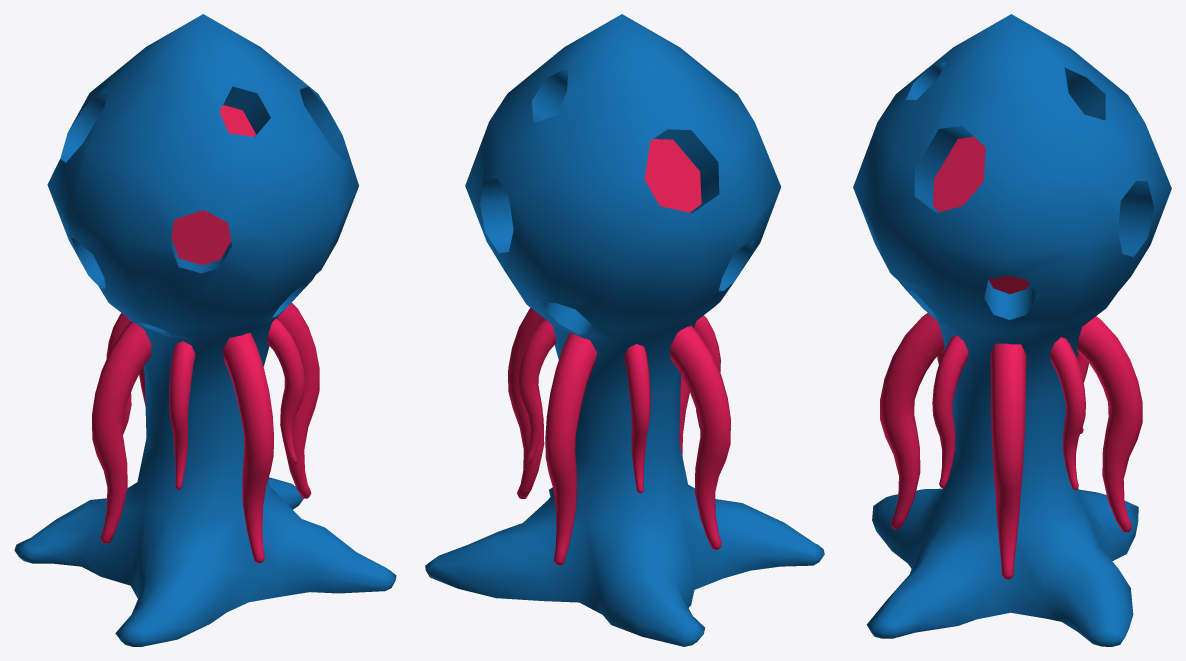
Rendered from Plant_6_blue.fbx.
3 renders of one model, left to right at view 1: azimuth 30°, elevation 25°; view 2: azimuth 150°, elevation 25°; view 3: azimuth 270°, elevation 25°, orthographic.
Parts seen in each view (by area): view 1: Plant_6_blue; view 2: Plant_6_blue; view 3: Plant_6_blue.
Part boxes in pixels (left/top/right/bottom): Plant_6_blue: left=14, top=14, right=396, bottom=646; Plant_6_blue: left=425, top=14, right=824, bottom=646; Plant_6_blue: left=853, top=14, right=1171, bottom=646.
Size of the model in its own units: 1.86 by 3.43 by 1.76.
